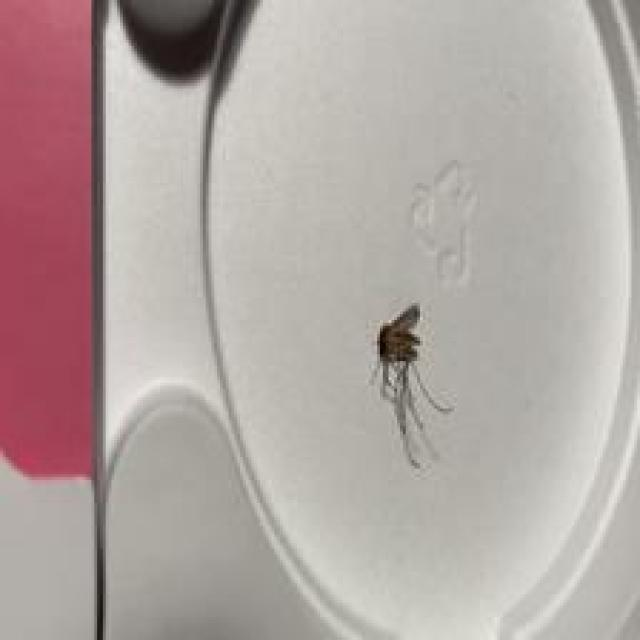Culex: (369, 301, 454, 470)
